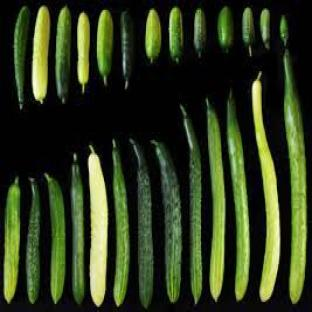Cucumber: (253, 75, 280, 302), (283, 50, 307, 303), (152, 141, 182, 303), (227, 91, 250, 300), (130, 139, 154, 308), (182, 106, 202, 303), (206, 100, 225, 302), (88, 147, 108, 307), (113, 141, 129, 307), (45, 174, 65, 303), (71, 154, 85, 303), (4, 179, 19, 303), (26, 179, 40, 303), (32, 7, 50, 103), (15, 5, 30, 108), (55, 7, 71, 103), (97, 10, 113, 85), (121, 10, 134, 89), (78, 12, 89, 94), (145, 9, 161, 62), (169, 7, 183, 62), (218, 7, 233, 52), (193, 9, 206, 57), (242, 7, 254, 56), (261, 9, 269, 49), (280, 15, 288, 46)
